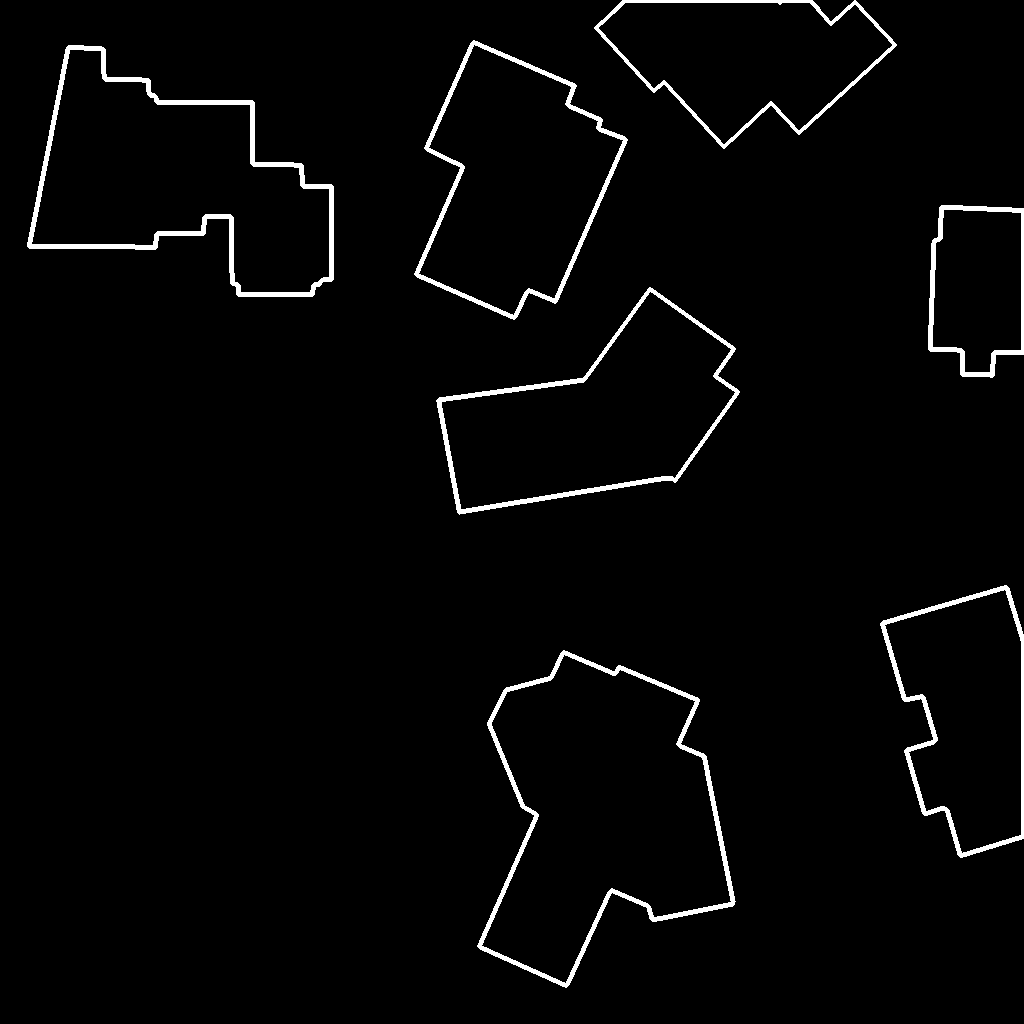building: (479, 652, 734, 987), (29, 47, 332, 295), (438, 289, 739, 513), (416, 42, 627, 319), (596, 0, 896, 148), (882, 587, 1024, 857), (930, 207, 1024, 376)
